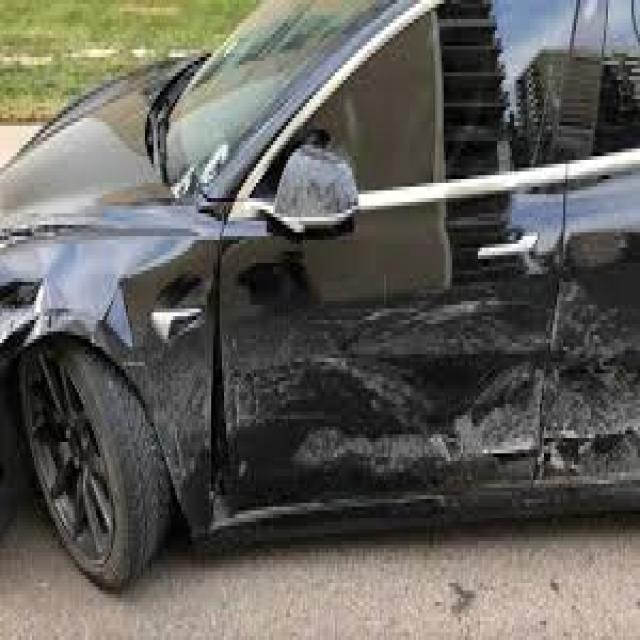minor: (247, 245, 627, 539)
moderate: (0, 239, 235, 540)
